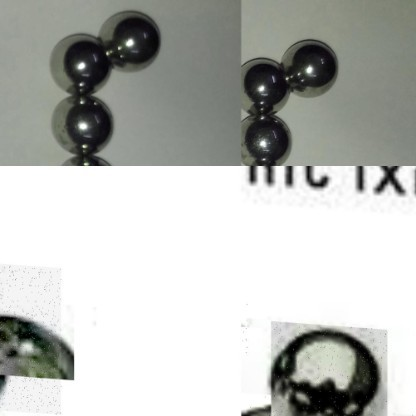ironball: (271, 320, 387, 415), (0, 309, 76, 377), (98, 5, 162, 78), (44, 31, 113, 96), (44, 93, 119, 152), (277, 36, 339, 95), (236, 113, 294, 165), (240, 55, 291, 112)
